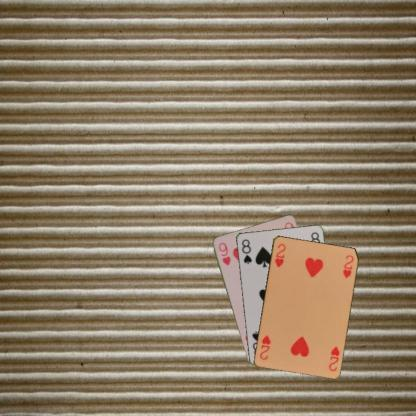2h: (326, 344, 340, 373), (272, 241, 287, 268)
8s: (238, 236, 252, 266)
9h: (216, 240, 232, 267)
